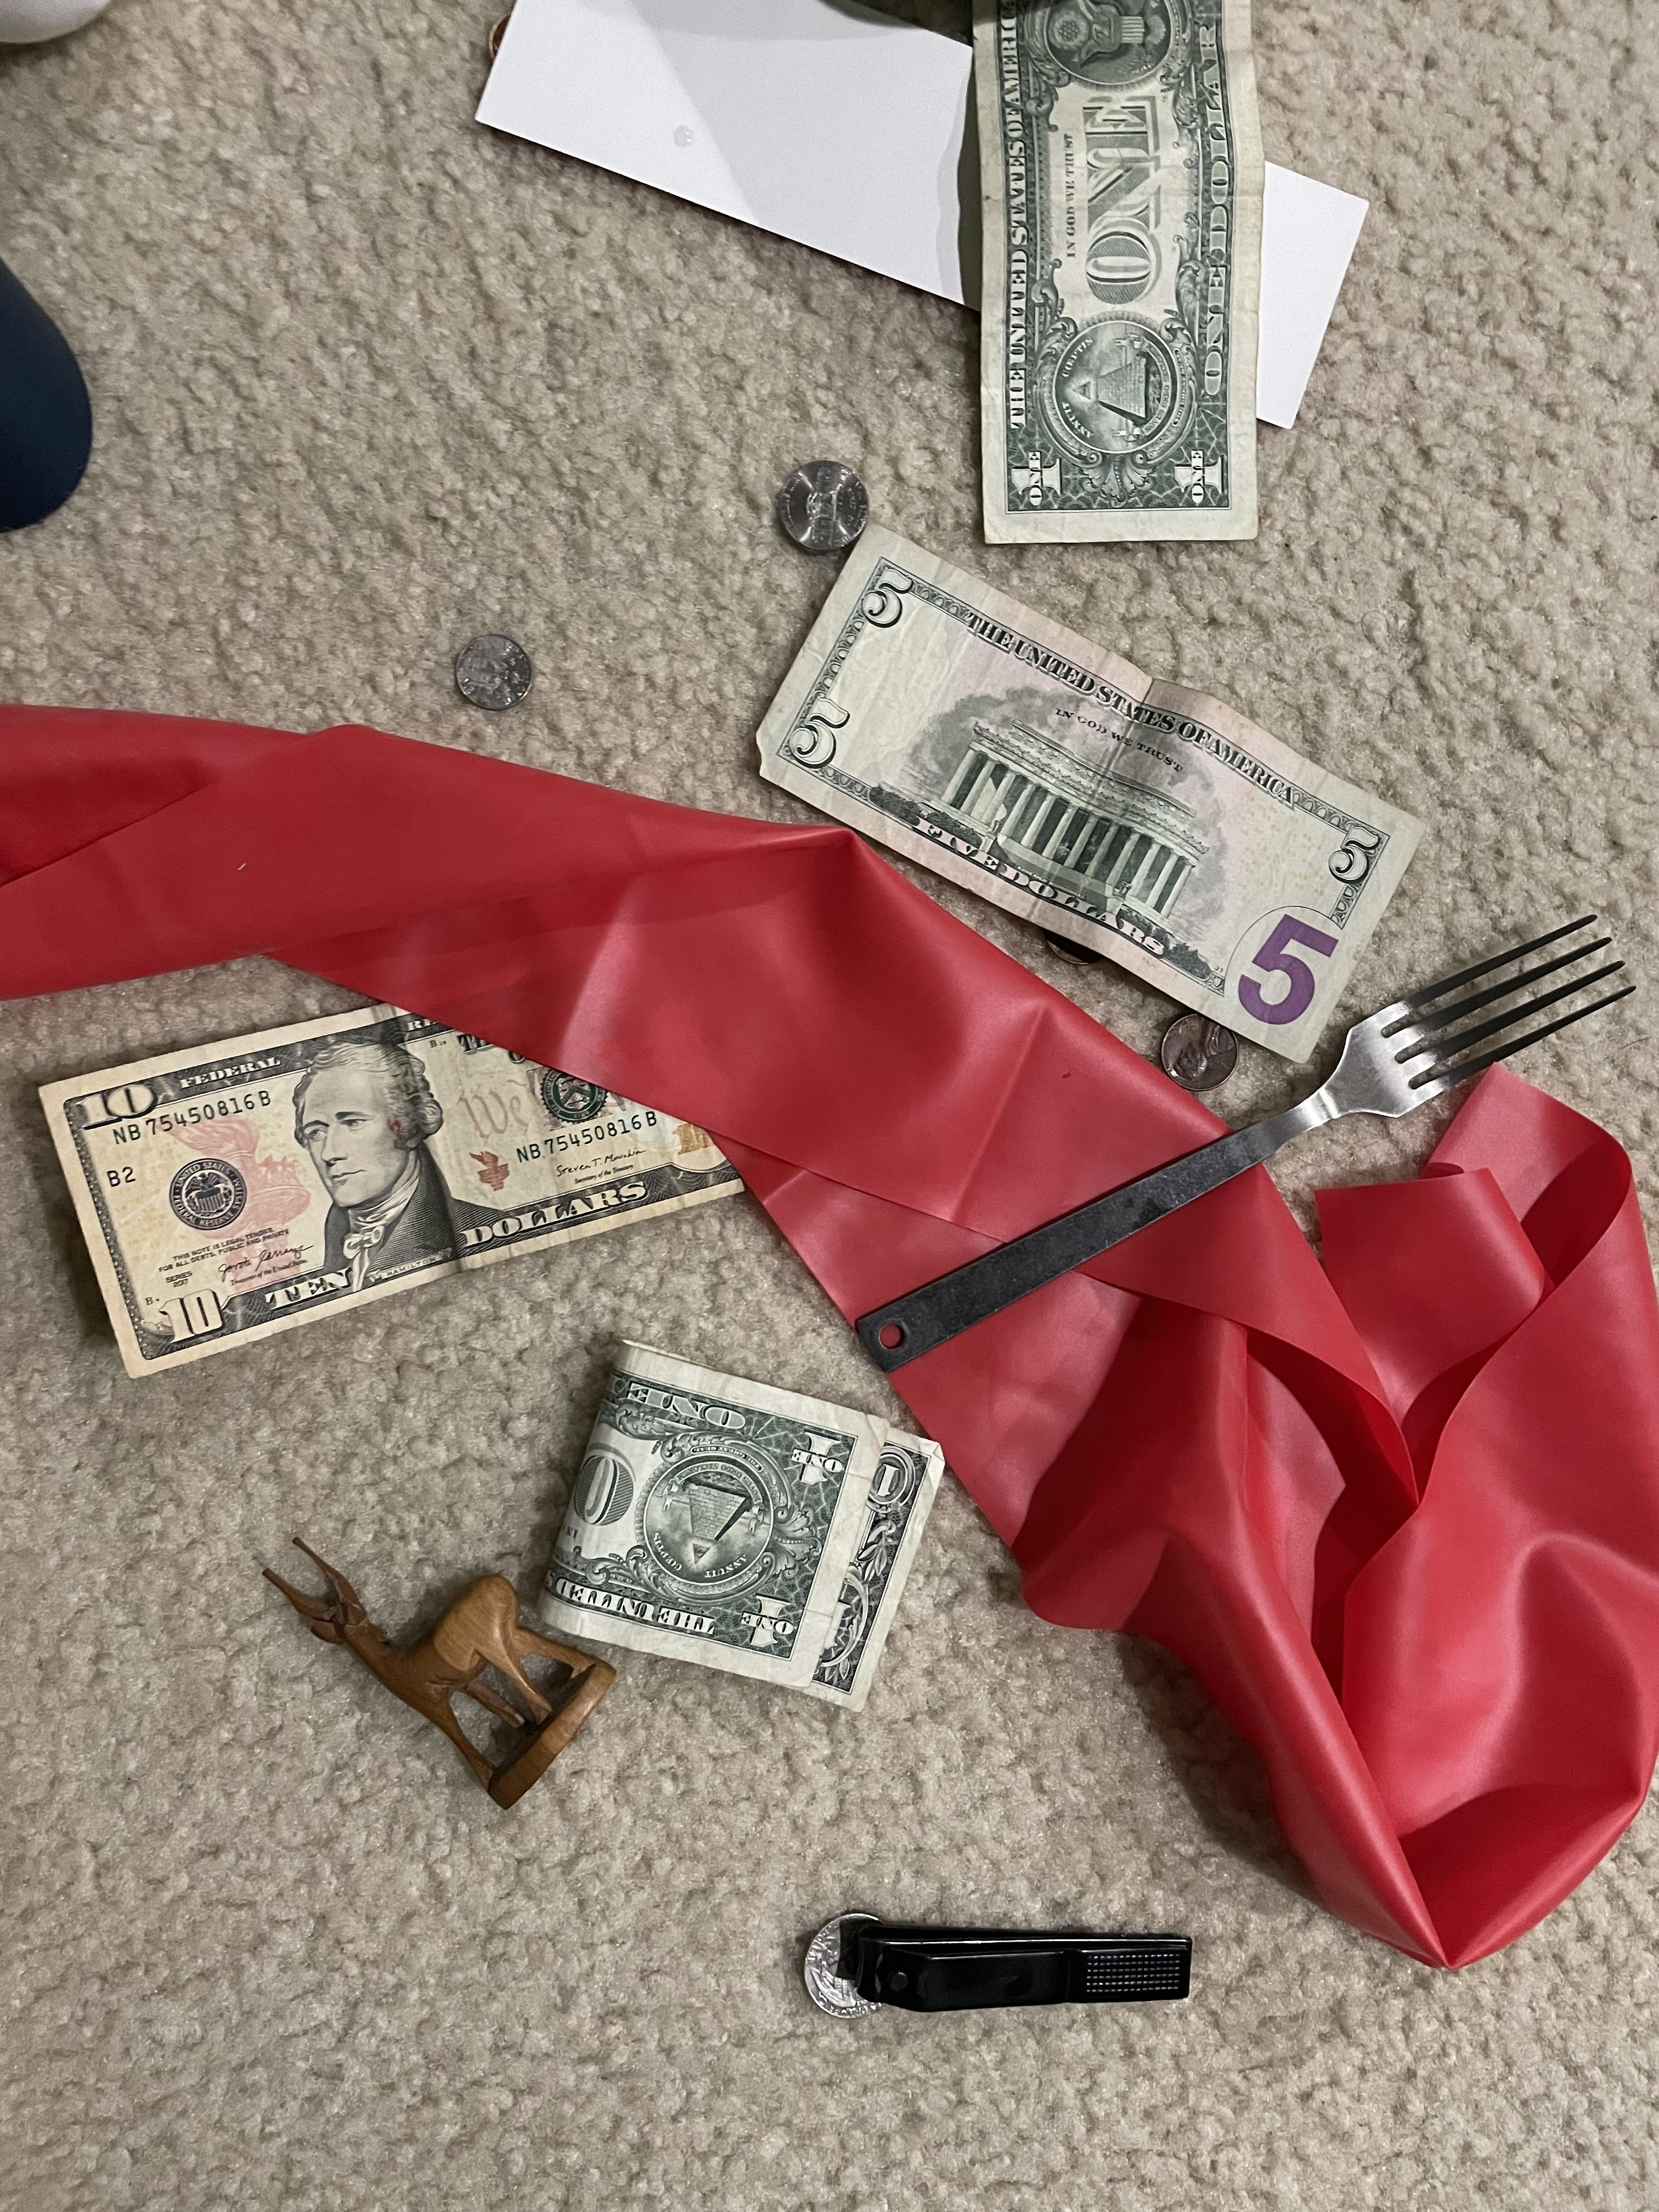Dime: (443, 613, 542, 721)
FiveBill: (753, 519, 1431, 1068)
Nickel: (769, 467, 870, 559)
OneBill: (969, 2, 1260, 556), (516, 1343, 948, 1712)
Penny: (1143, 1005, 1253, 1094)
TenBill: (77, 916, 763, 1374)
